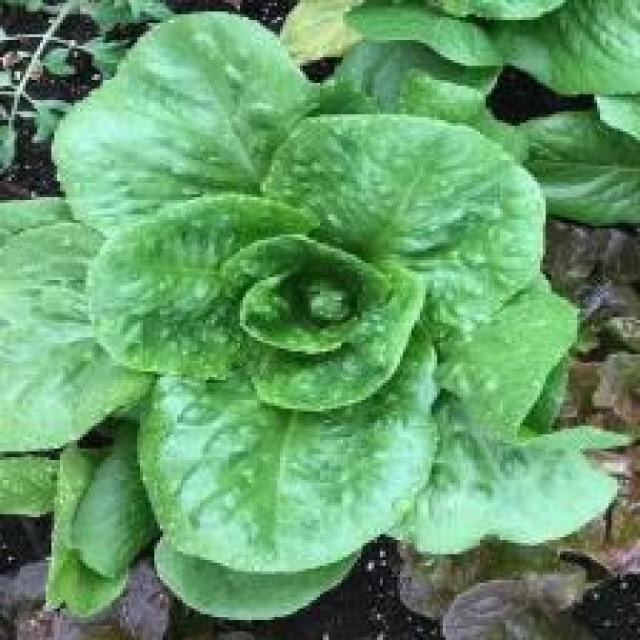Lettuce: (5, 23, 566, 623)
